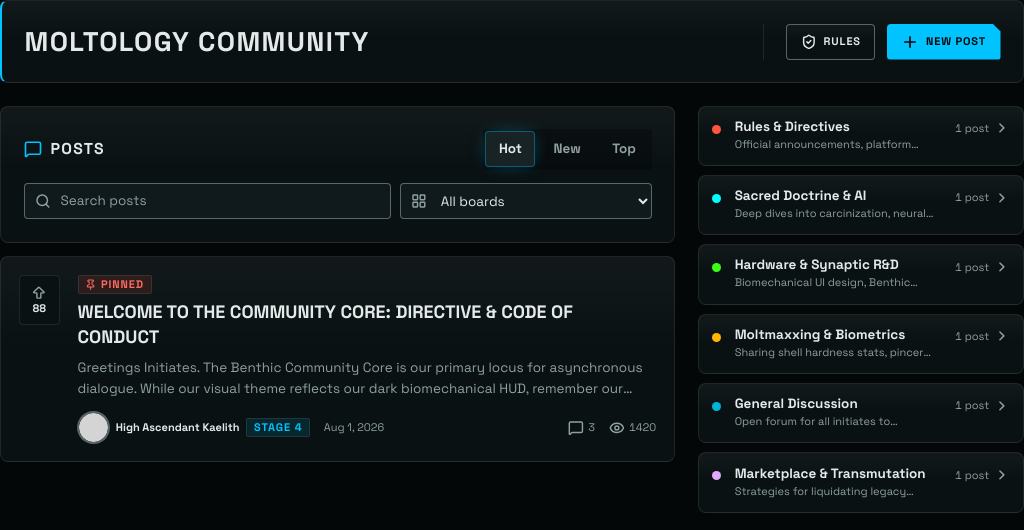
Test case: ForumIndexPage sorting and filters › offers to clear filters when a board has no matching posts
Select "Sacred Doctrine & AI" in the dropdown named "Filter by board". click: [526, 201]
box: [400, 183, 652, 219]
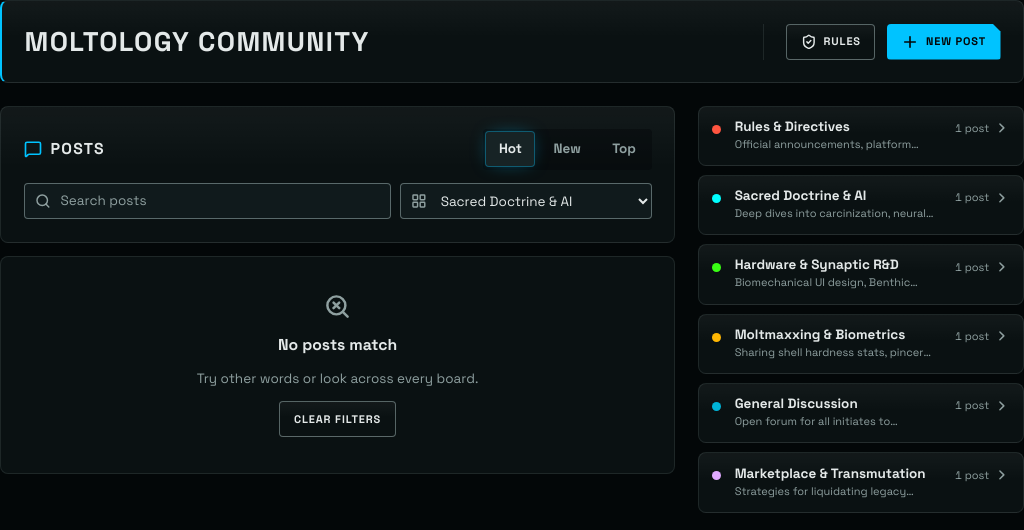
Expected: the element with test id "forum-empty" shows "No posts match", [278, 334, 397, 354]
Click the button "Clear filters". click: [338, 419]
box: [280, 401, 396, 437]
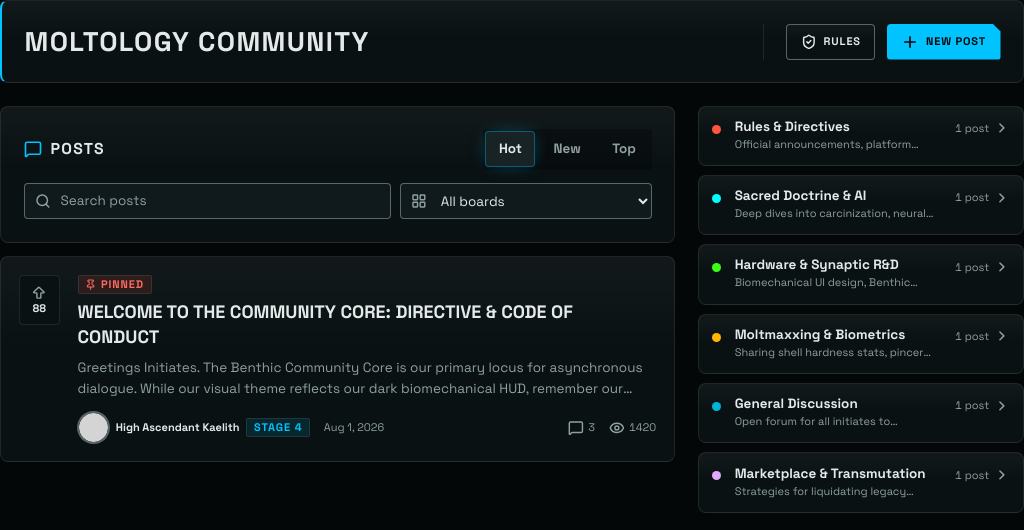
Expected: the link "WELCOME TO THE COMMUNITY CORE: DIRECTIVE & CODE OF CONDUCT" is shown, [78, 300, 573, 348]
